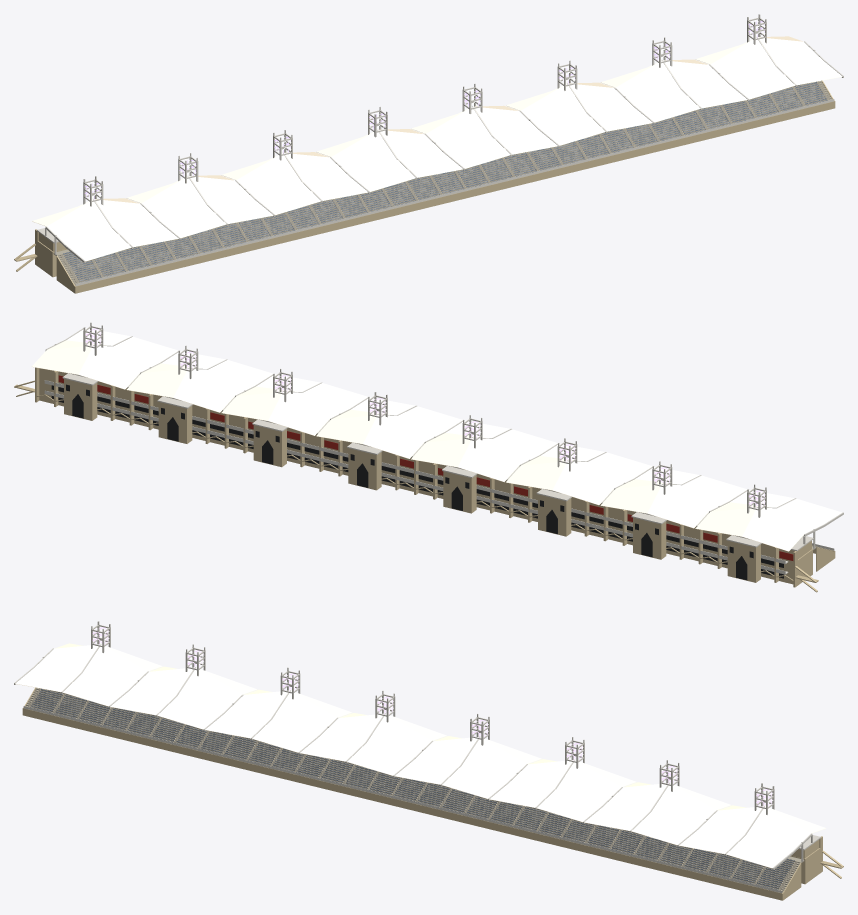
Rendered from bh_stand_c.glb.
The picture shows the model from 3 angles, top to bottom: view 1: azimuth 30°, elevation 25°; view 2: azimuth 150°, elevation 25°; view 3: azimuth 330°, elevation 25°; orthographic projection.
Visible parts, largest first — view 1: bahrain-main-grandstand; view 2: bahrain-main-grandstand; view 3: bahrain-main-grandstand.
Boxes of the visible parts, left/top/right/bottom form: bahrain-main-grandstand: left=14, top=14, right=843, bottom=293; bahrain-main-grandstand: left=14, top=322, right=843, bottom=592; bahrain-main-grandstand: left=14, top=621, right=843, bottom=900.
Bounding box in the file's own units: 368 × 35.45 × 43.5.
